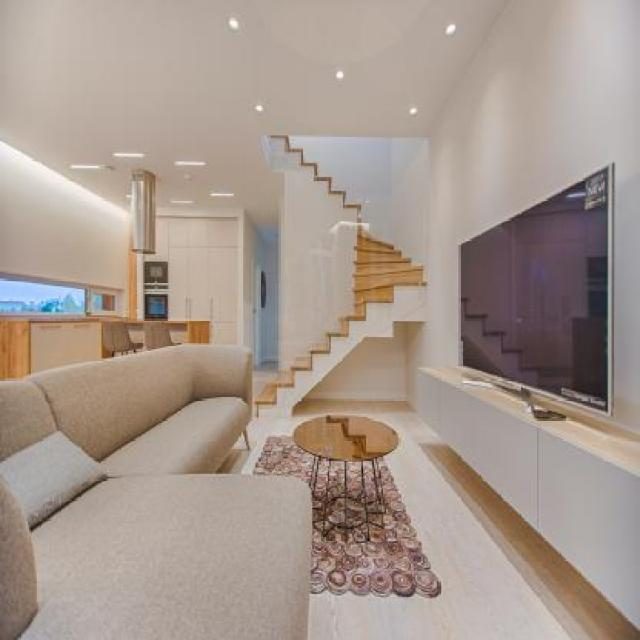Floor: (216, 359, 640, 640)
